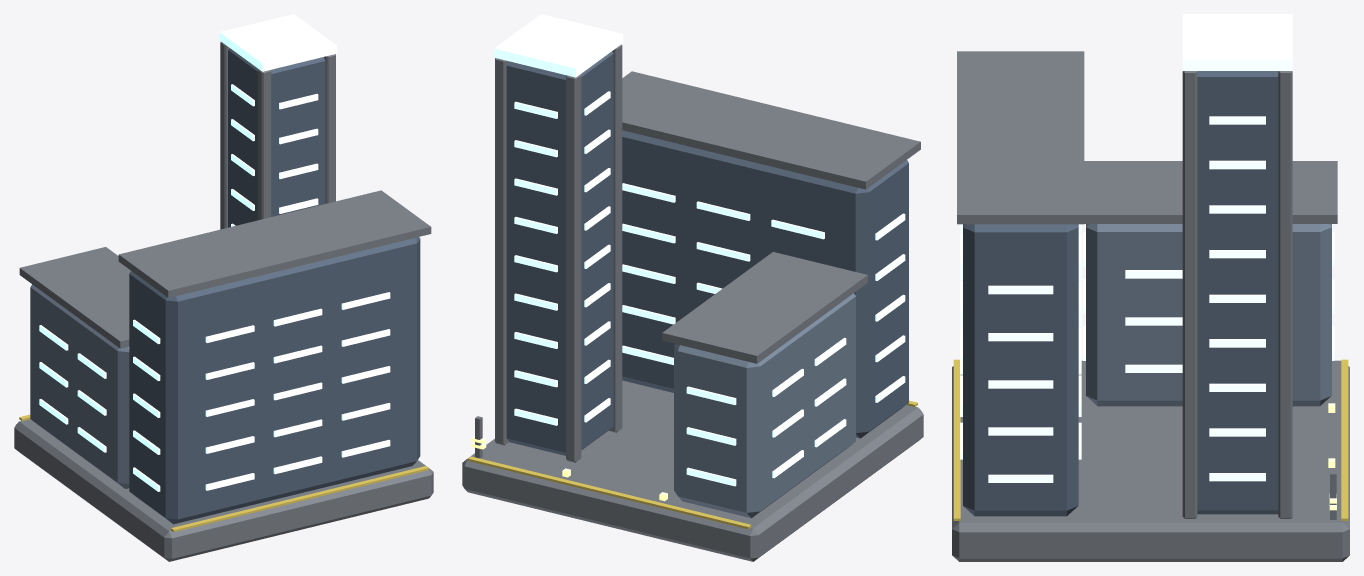
File: zone_high_6_t2.glb
3 views of the same model, side by side, from view 1: azimuth 30°, elevation 25°; view 2: azimuth 150°, elevation 25°; view 3: azimuth 270°, elevation 25° (orthographic). The views are drawn at different scales.
Parts seen in each view (by area): view 1: zone_high_6_t2, detail; view 2: zone_high_6_t2, detail; view 3: zone_high_6_t2, detail.
Boxes of the visible parts, box(x1,y1,x2,y2) form: zone_high_6_t2: box(14, 14, 433, 561); detail: box(19, 414, 428, 531); zone_high_6_t2: box(462, 14, 923, 561); detail: box(468, 400, 917, 528); zone_high_6_t2: box(952, 14, 1349, 561); detail: box(953, 359, 1348, 520).
Size of the model in its own units: 27.5 by 38.04 by 27.5.
